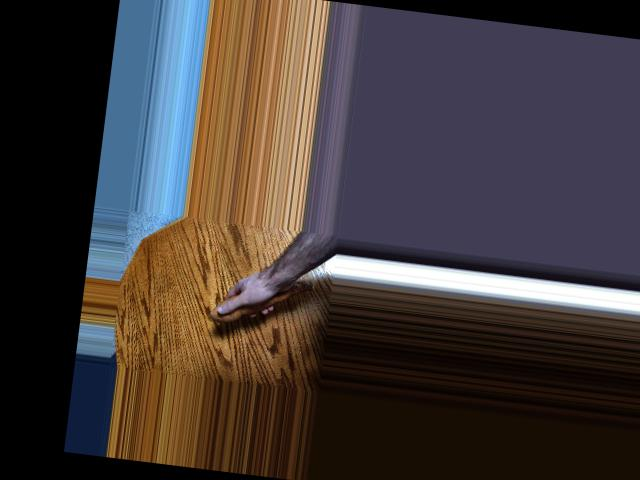sweet_potato: (208, 265, 320, 336)
